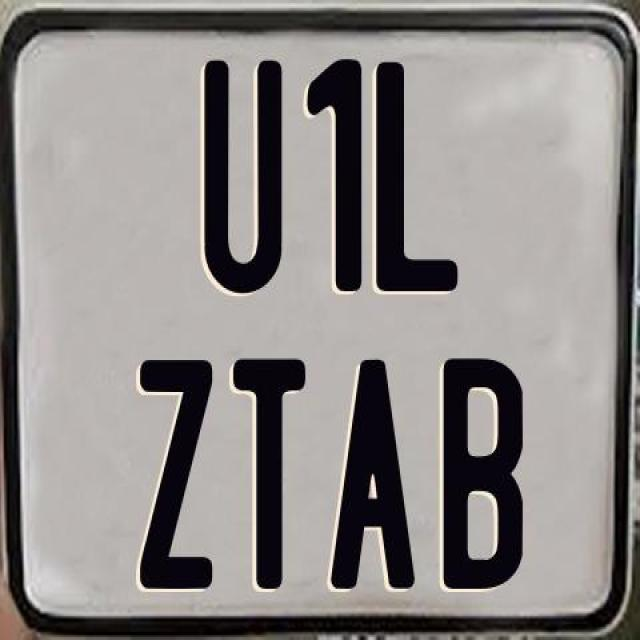1: (302, 55, 358, 292)
A: (327, 360, 412, 595)
B: (442, 357, 526, 589)
L: (373, 62, 460, 298)
T: (234, 355, 314, 592)
U: (200, 56, 279, 290)
Z: (137, 360, 212, 595)
